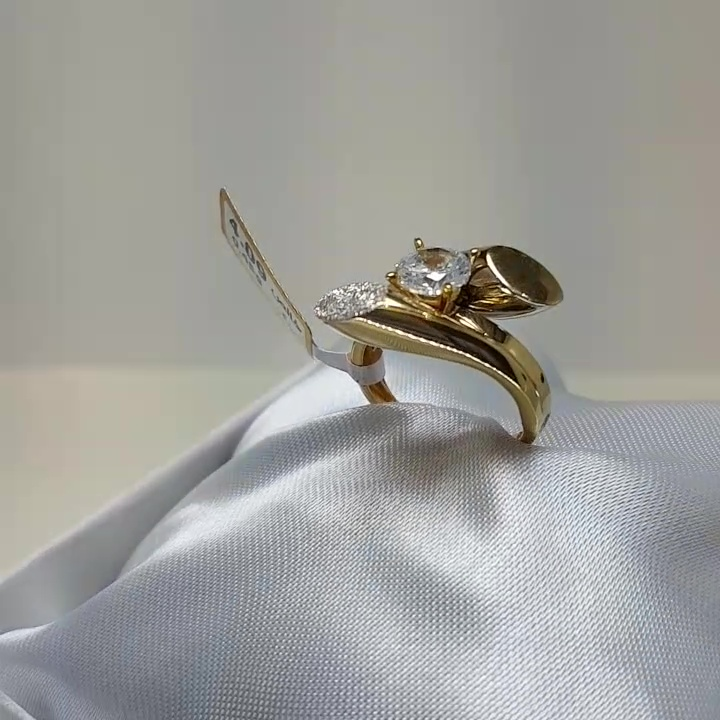Ring 7: (303, 230, 573, 458)
